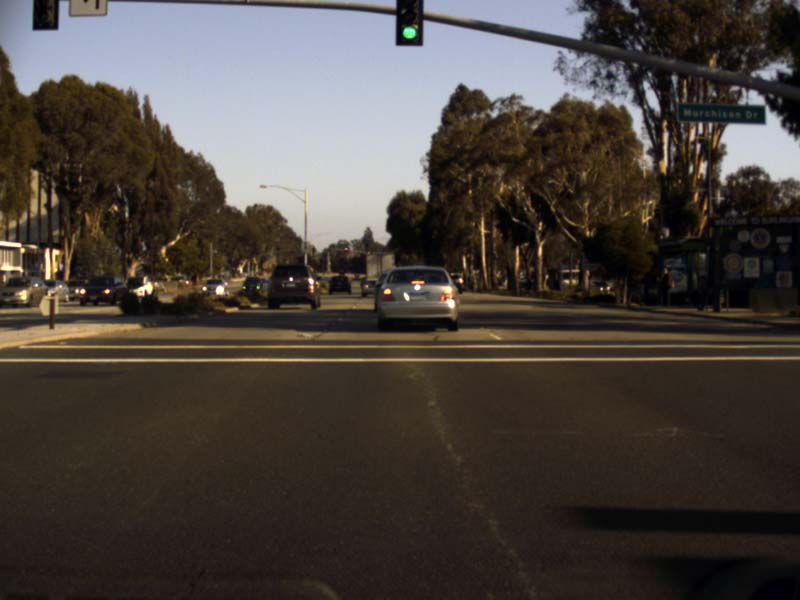Yellow: (343, 245, 349, 253)
